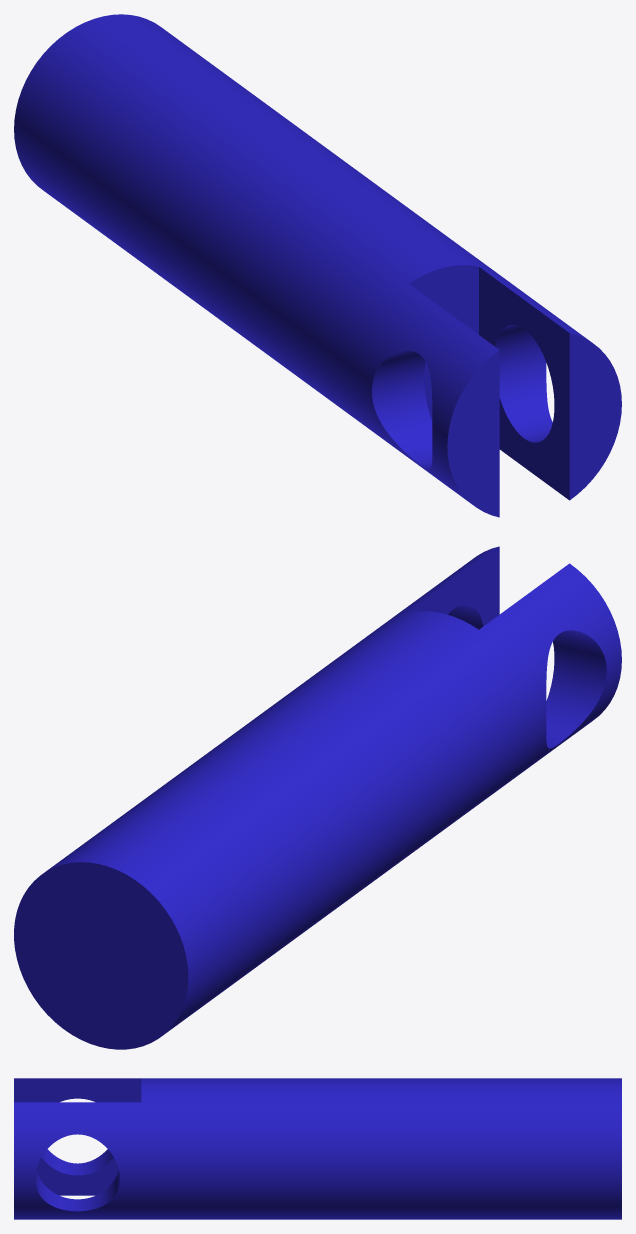
Rendered from Pin.fbx.
The picture shows the model from 3 angles, top to bottom: view 1: azimuth 30°, elevation 25°; view 2: azimuth 150°, elevation 25°; view 3: azimuth 270°, elevation 25°; orthographic projection. The views are drawn at different scales.
Visible parts, largest first — view 1: pin; view 2: pin; view 3: pin.
Boxes of the visible parts, x1,y1,x2,y2 form: pin: (14,14,621,517); pin: (14,546,621,1049); pin: (14,1078,621,1219).
Bounding box in the file's own units: 500 × 500 × 2150.
